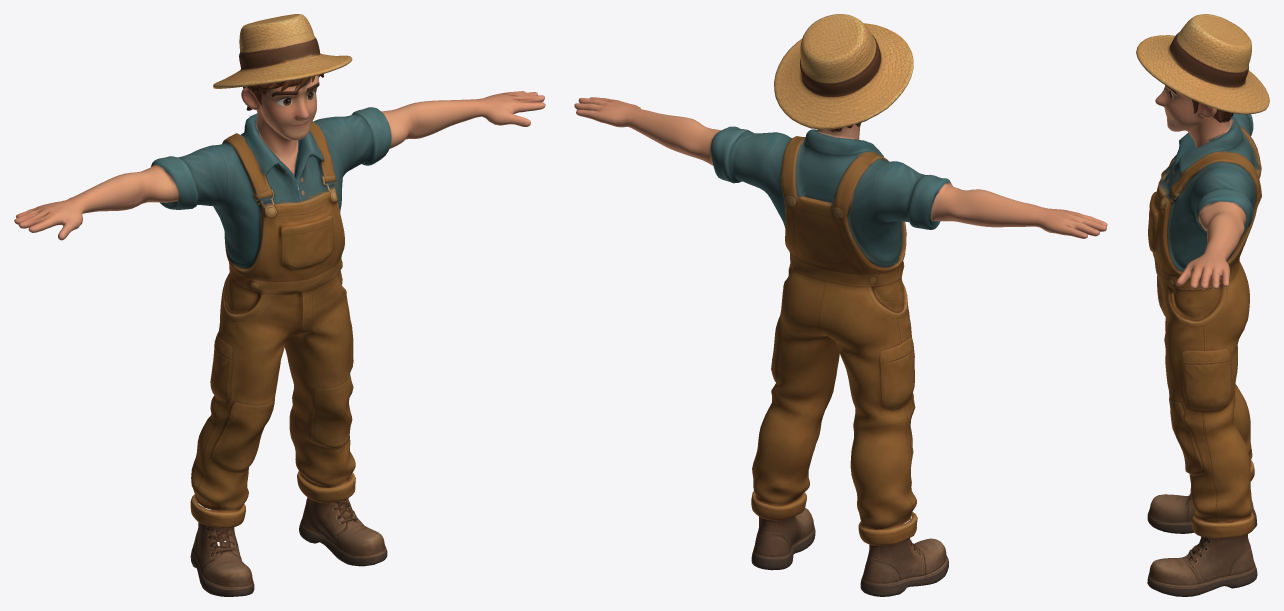
The model's file is farmer.glb.
The picture shows the model from 3 angles, left to right: view 1: azimuth 30°, elevation 25°; view 2: azimuth 150°, elevation 25°; view 3: azimuth 270°, elevation 25°; orthographic projection. The views are drawn at different scales.
Visible parts, largest first — view 1: tripo_node_a5a1c2a5; view 2: tripo_node_a5a1c2a5; view 3: tripo_node_a5a1c2a5.
Boxes of the visible parts, x1=… form: tripo_node_a5a1c2a5: x1=14, y1=14, x2=545, y2=596; tripo_node_a5a1c2a5: x1=574, y1=14, x2=1107, y2=596; tripo_node_a5a1c2a5: x1=1136, y1=14, x2=1269, y2=596.
Bounding box in the file's own units: 98.03 × 97.55 × 22.03.
Materials: 1 (1 with a texture image).
